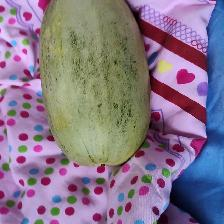gua: (45, 3, 134, 151)
